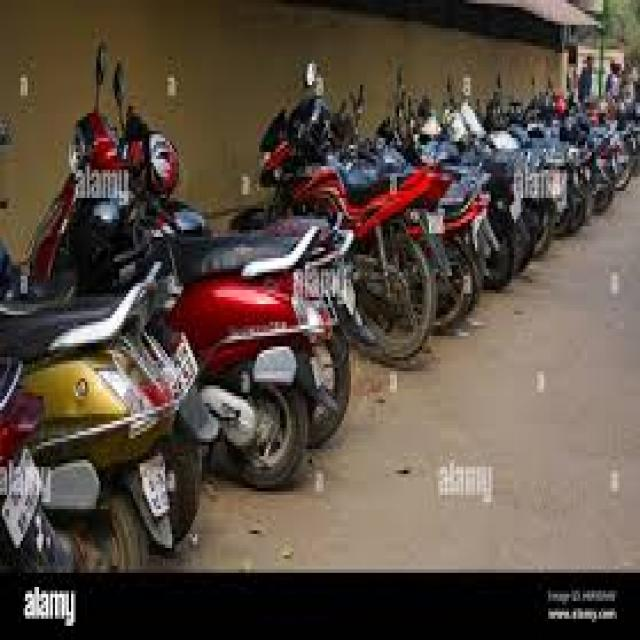No Parking: (7, 65, 610, 324)
